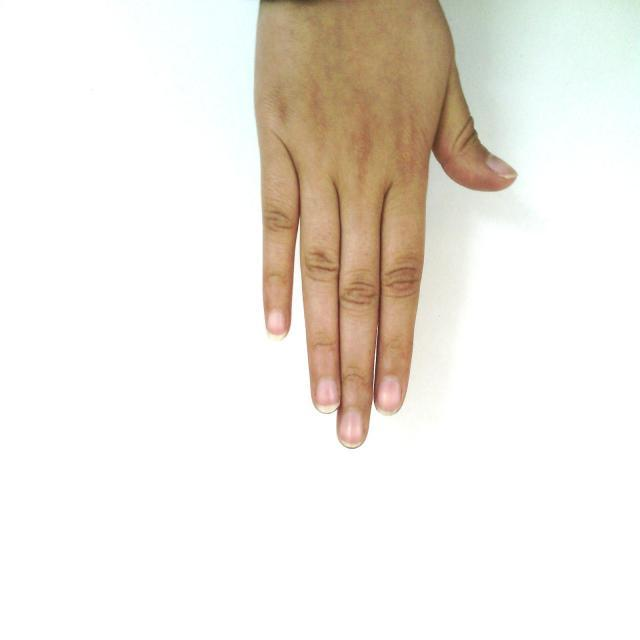Fingernail: (377, 377, 400, 413), (340, 410, 363, 446), (316, 378, 338, 408), (488, 155, 517, 177), (268, 311, 286, 337)
